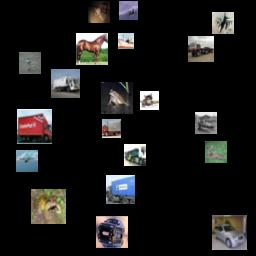airplane: (16, 150, 38, 172), (195, 112, 217, 134), (212, 12, 234, 34), (119, 1, 138, 20)
automobile: (212, 215, 247, 250), (96, 216, 128, 248)
bird: (19, 52, 41, 74)
cat: (140, 91, 159, 110)
deer: (205, 141, 227, 163)
dog: (88, 1, 110, 23)
frog: (31, 189, 66, 224), (101, 82, 133, 114)
ship: (118, 33, 134, 49)
truck: (17, 109, 52, 144), (51, 69, 80, 98), (106, 175, 135, 204), (188, 36, 214, 62), (124, 144, 146, 166), (102, 119, 121, 138)
